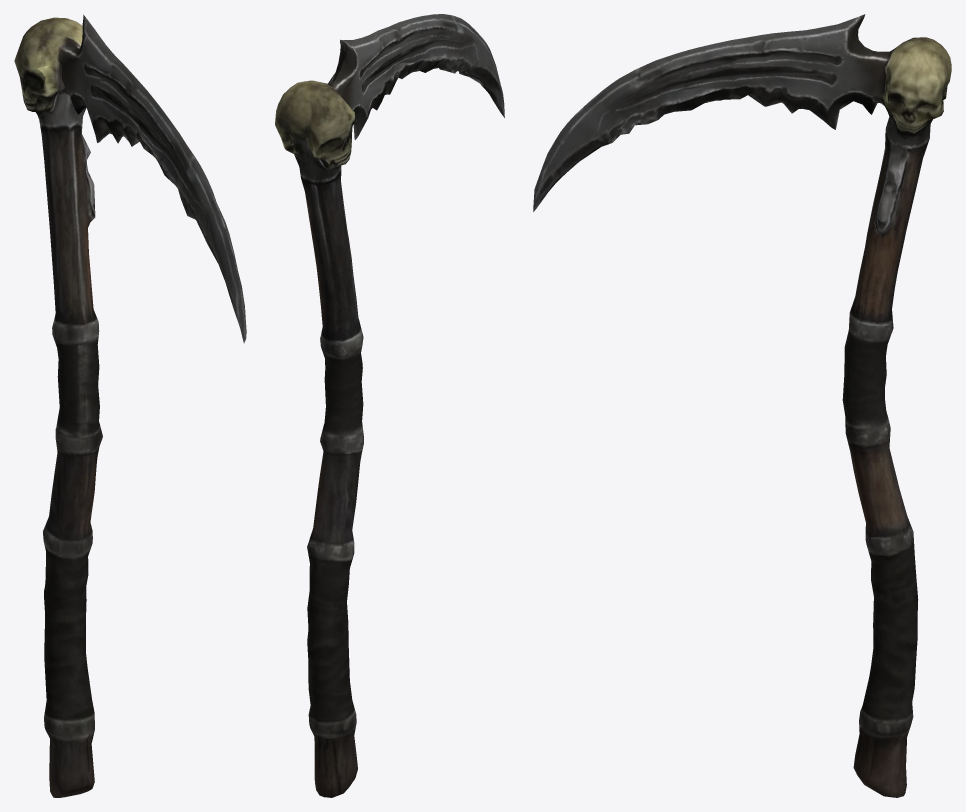
The model's file is necro_wpn_scythe.glb.
The picture shows the model from 3 angles, left to right: view 1: azimuth 30°, elevation 25°; view 2: azimuth 150°, elevation 25°; view 3: azimuth 270°, elevation 25°; orthographic projection. The views are drawn at different scales.
Visible parts, largest first — view 1: game; view 2: game; view 3: game.
Boxes of the visible parts, <box> form: game: <box>14,14,246,797</box>; game: <box>275,14,504,797</box>; game: <box>533,14,951,797</box>.
Size of the model in its own units: 0.0963 by 1 by 0.4856.
1 material, 1 textured.
